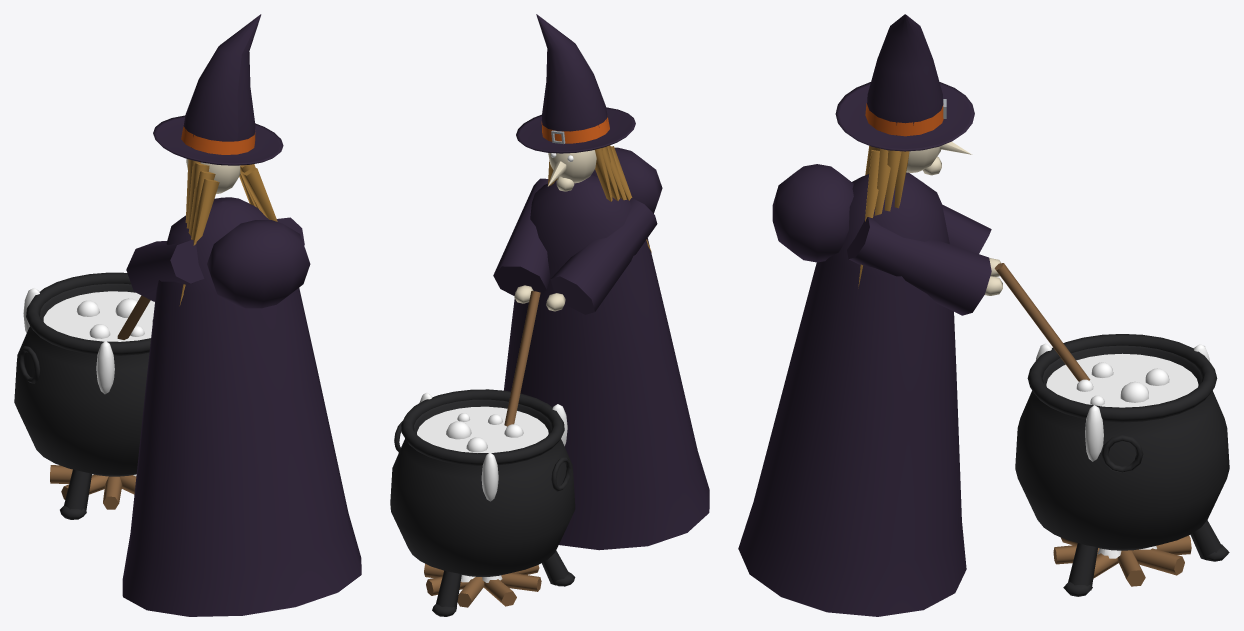
Rendered from WITCH.glb.
The picture shows the model from 3 angles, left to right: view 1: azimuth 30°, elevation 25°; view 2: azimuth 150°, elevation 25°; view 3: azimuth 270°, elevation 25°; orthographic projection. The views are drawn at different scales.
Parts seen in each view (by area): view 1: fabric_0, tread_6, slime_7, straw_2, wood_5, pumpkin_3, bone_1; view 2: fabric_0, tread_6, slime_7, wood_5, bone_1, straw_2, pumpkin_3; view 3: fabric_0, tread_6, slime_7, wood_5, straw_2, bone_1, pumpkin_3.
Part boxes in pixels (x1=…): fabric_0: x1=122, y1=14, x2=361, y2=616; tread_6: x1=14, y1=272, x2=150, y2=519; slime_7: x1=23, y1=288, x2=154, y2=394; straw_2: x1=179, y1=159, x2=277, y2=305; wood_5: x1=50, y1=295, x2=150, y2=509; pumpkin_3: x1=181, y1=126, x2=255, y2=154; bone_1: x1=186, y1=159, x2=240, y2=193; fabric_0: x1=493, y1=14, x2=709, y2=550; tread_6: x1=390, y1=389, x2=575, y2=616; slime_7: x1=417, y1=392, x2=567, y2=501; wood_5: x1=424, y1=291, x2=541, y2=607; bone_1: x1=514, y1=150, x2=596, y2=311; straw_2: x1=548, y1=145, x2=651, y2=252; pumpkin_3: x1=541, y1=117, x2=609, y2=143; fabric_0: x1=738, y1=14, x2=991, y2=616; tread_6: x1=1015, y1=334, x2=1229, y2=596; slime_7: x1=1035, y1=343, x2=1209, y2=461; wood_5: x1=994, y1=263, x2=1191, y2=586; straw_2: x1=858, y1=146, x2=909, y2=288; bone_1: x1=906, y1=141, x2=1002, y2=295; pumpkin_3: x1=865, y1=103, x2=943, y2=136.
Size of the model in its own units: 0.8969 by 2.17 by 1.67.
